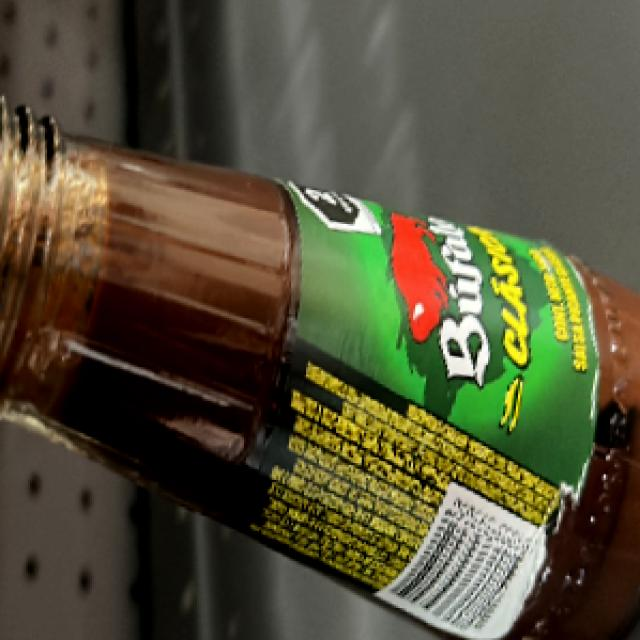salsaBufalo: (0, 175, 640, 586)
